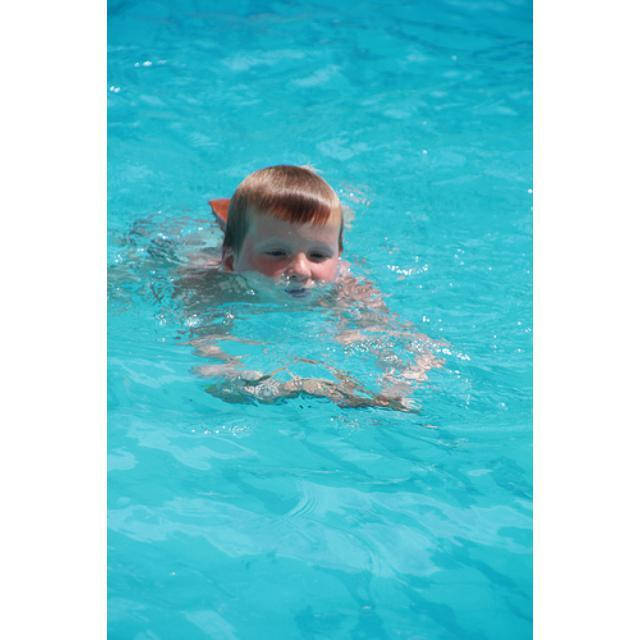human: (178, 164, 426, 430)
